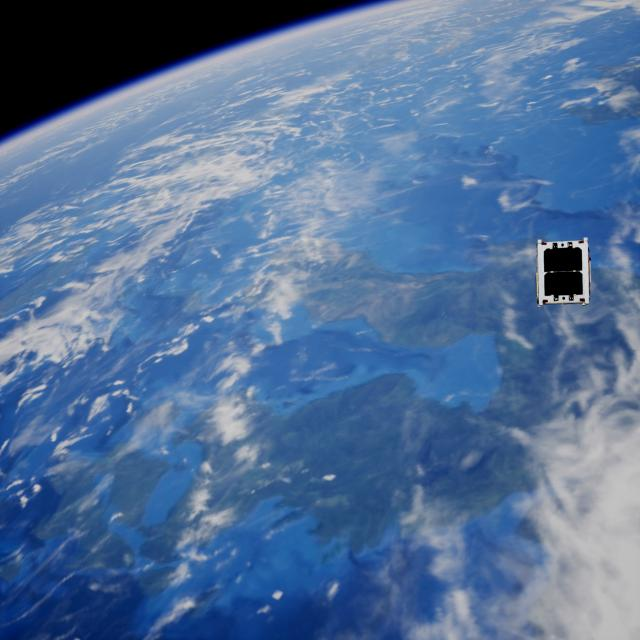medium_debris: (535, 234, 596, 305)
